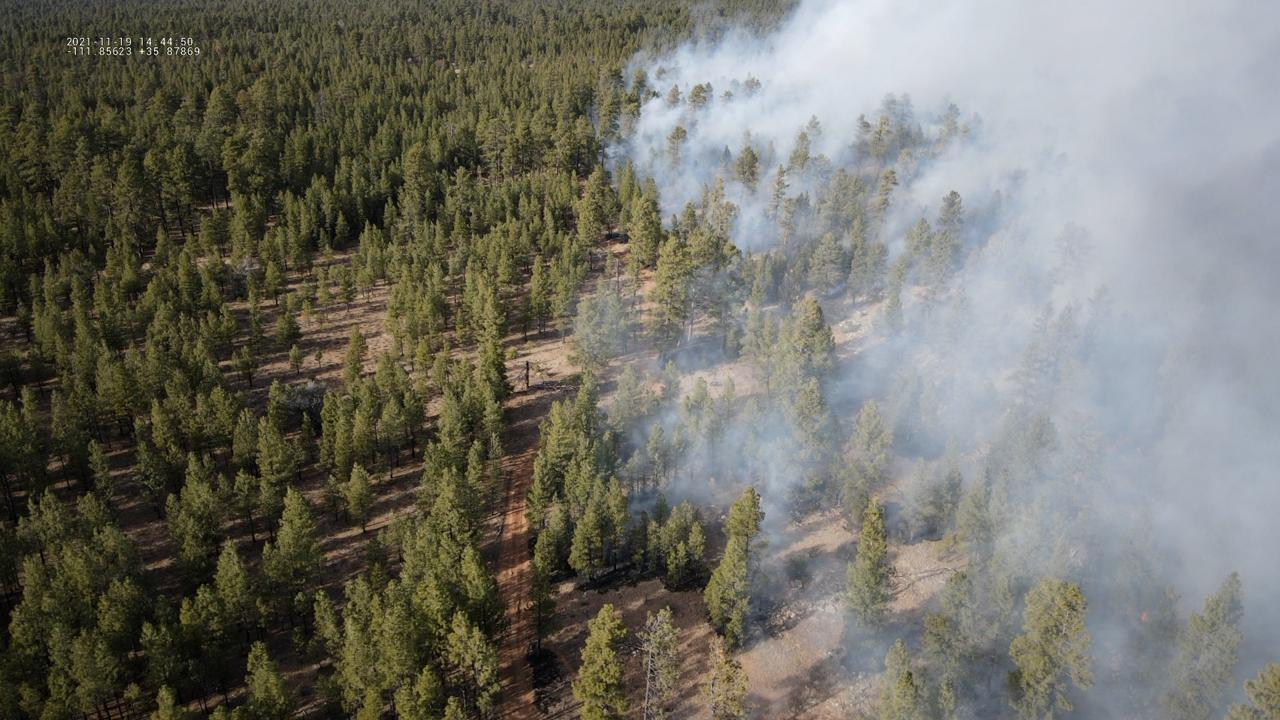fire: (1140, 612, 1150, 624)
smoke: (599, 0, 1280, 720)
